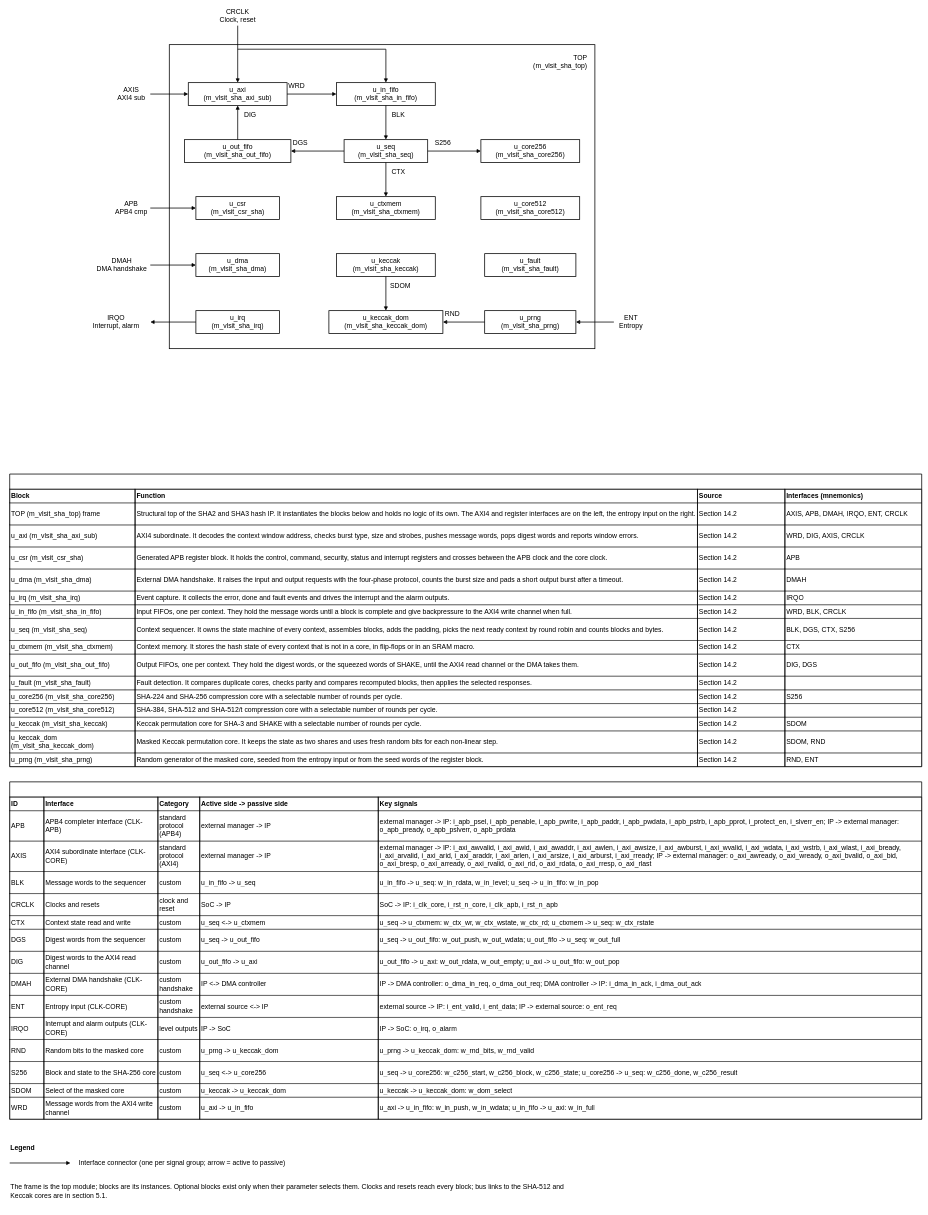
Image size: 928x1215. Some labels were removed from this diagram. The box of each missing label's shape, as (x1, y1, x2, y2) in pixels:
Block Functions & Interfaces: (9, 473, 922, 767)
Interface Table: (9, 781, 922, 1119)
